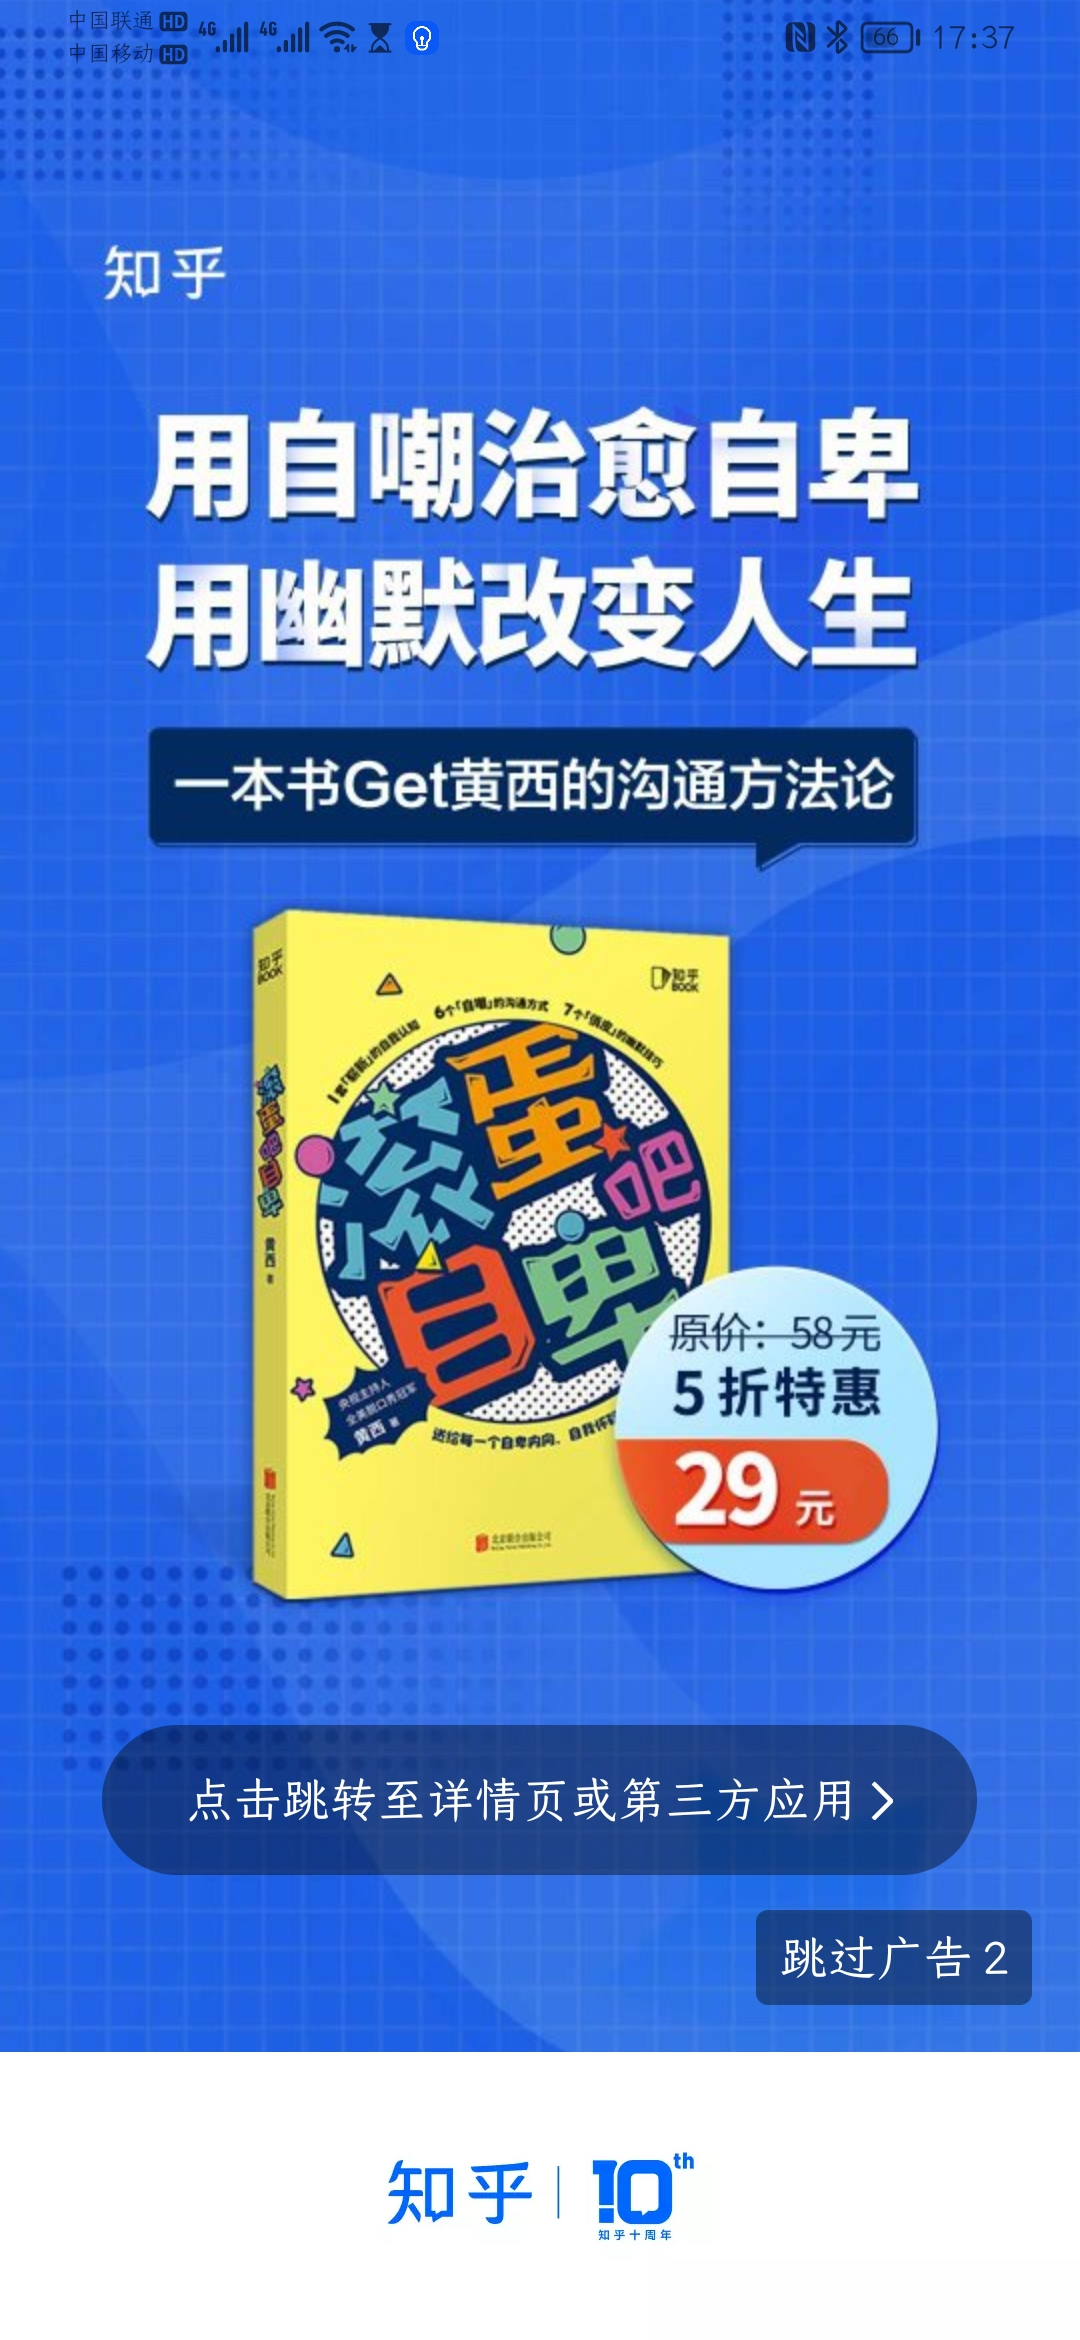skip: (756, 1909, 1026, 2012)
